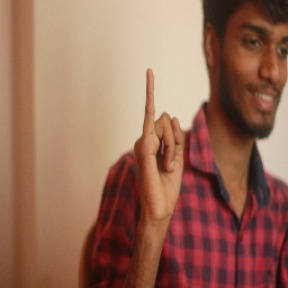I: (130, 66, 189, 218)
